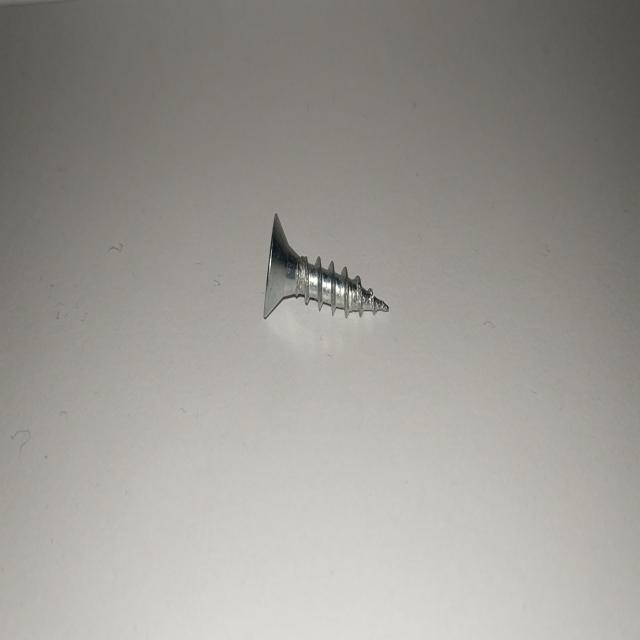Screw: (263, 213, 389, 317)
